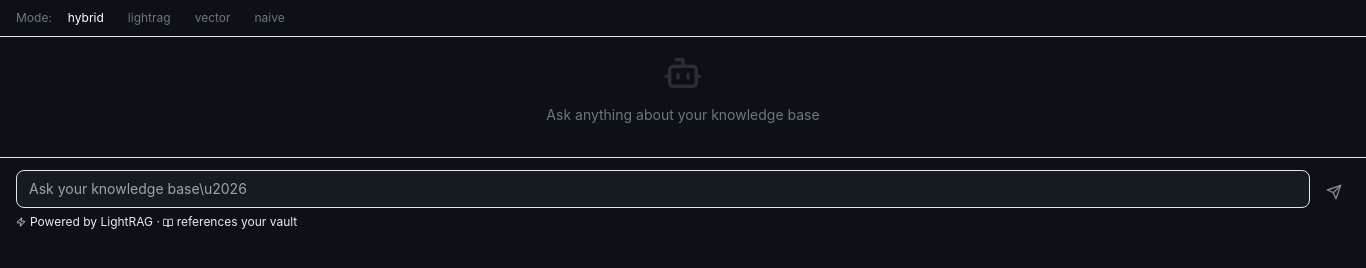
Test: AIChat (legacy fetch-based) — send › shows error message on non-ok HTTP response
The image size is (1366, 268).
Type "Fail test" into the text box with placeholder "Ask your knowledge base\\u2026". click: (663, 189)
box: top-left (16, 170), bottom-right (1310, 208)
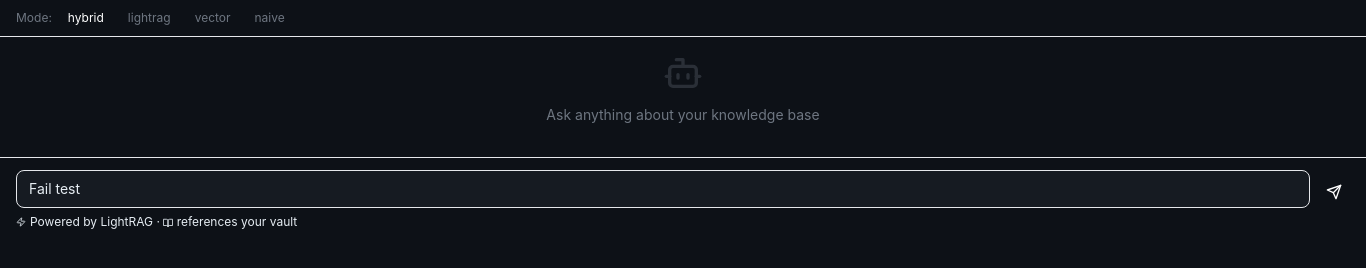
Press Enter in the text box with placeholder "Ask your knowledge base\\u2026", box top-left (16, 170), bottom-right (1310, 208)
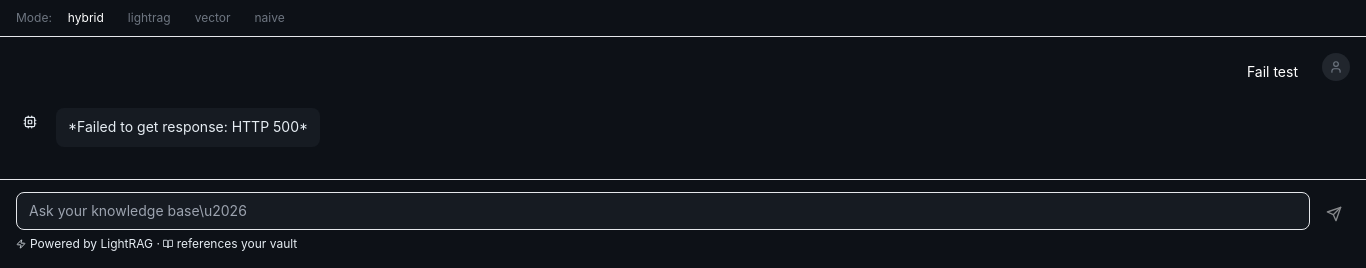
Expected: the text "*Failed to get response: HTTP 500*" is shown, top-left (56, 108), bottom-right (320, 147)
